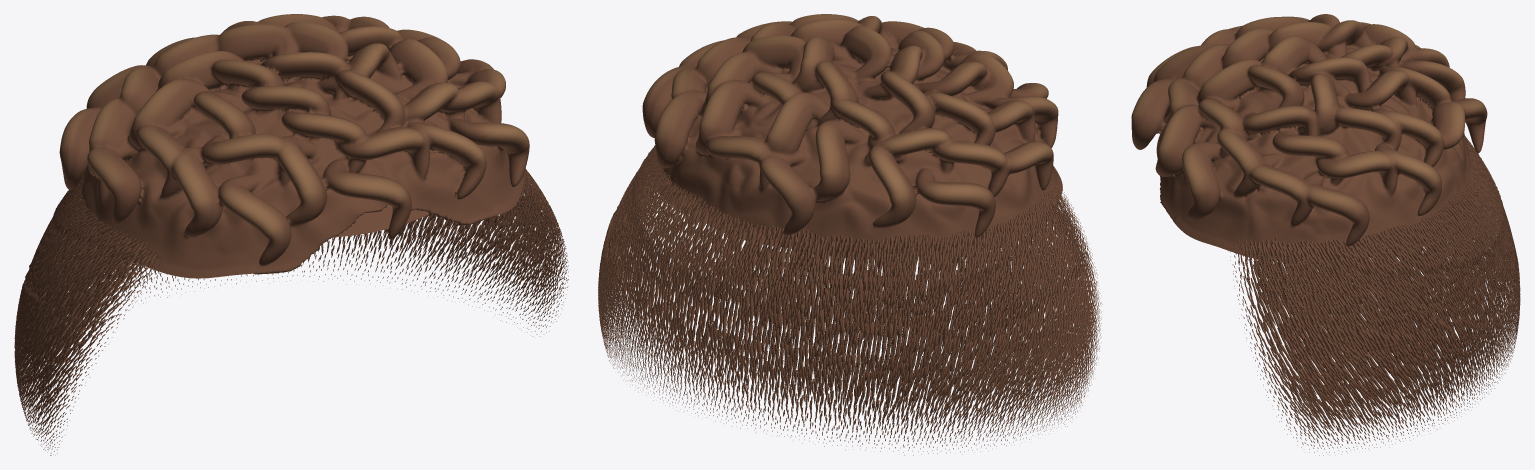
The model's file is Masculine-curly-top-headband254-hair-ombre.glb.
The picture shows the model from 3 angles, left to right: view 1: azimuth 30°, elevation 25°; view 2: azimuth 150°, elevation 25°; view 3: azimuth 270°, elevation 25°; orthographic projection. The views are drawn at different scales.
Visible parts, largest first — view 1: 226 hair / Hair252 / sculpted curl groups, 226 hair / Hair254 / rooted short groom; view 2: 226 hair / Hair254 / rooted short groom, 226 hair / Hair252 / sculpted curl groups; view 3: 226 hair / Hair252 / sculpted curl groups, 226 hair / Hair254 / rooted short groom.
Part boxes in pixels (x1,y1,x2,y2): 226 hair / Hair252 / sculpted curl groups: (59,14,529,278); 226 hair / Hair254 / rooted short groom: (14,168,568,455); 226 hair / Hair254 / rooted short groom: (598,145,1102,455); 226 hair / Hair252 / sculpted curl groups: (642,14,1062,258); 226 hair / Hair252 / sculpted curl groups: (1131,14,1487,260); 226 hair / Hair254 / rooted short groom: (1156,135,1520,455).
Size of the model in its own units: 0.9716 by 0.6616 by 0.7501.
